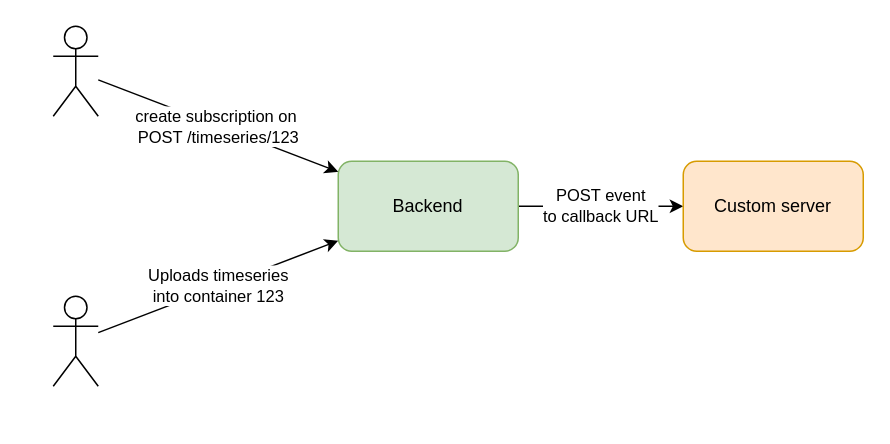
Image size: 890x444. Some labels were removed from this diagram. Here are the shapes that lost their labels. From the top down, the centre of each, then its label:
At point (75, 70): "Subscriber".
At point (75, 340): "Data creator".
